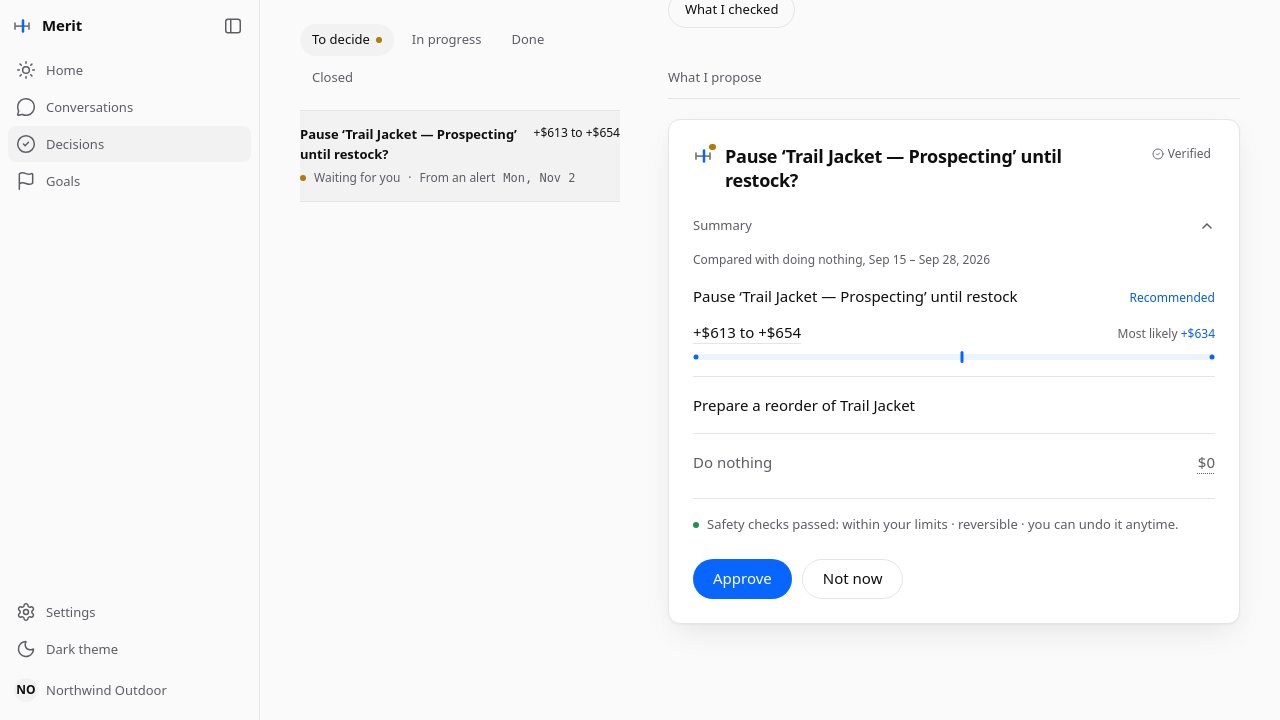
Test: the Decisions page › moves an approved decision to In progress, still open
The image size is (1280, 720).
(page scrolled)
Click the button "Approve".
click(742, 579)  # box [693,559,792,599]
(page scrolled)
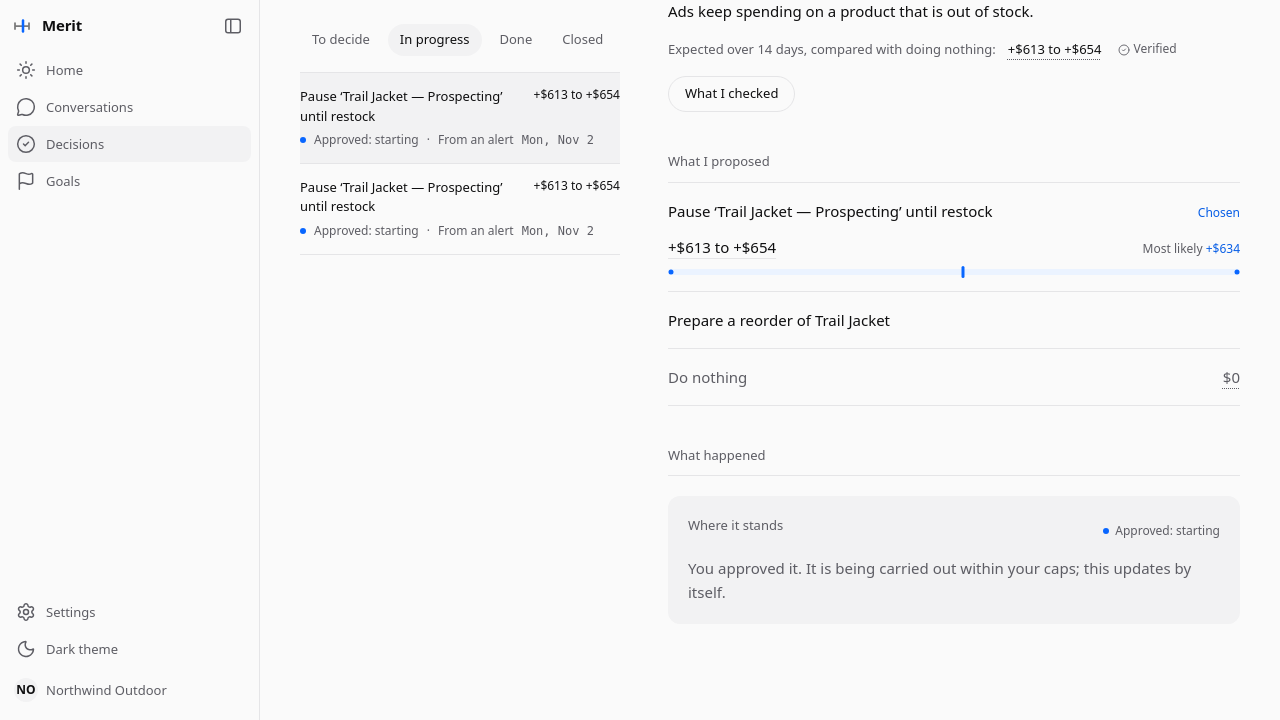
Check: the message reads "Approved: starting", box [1115,522,1220,539]
